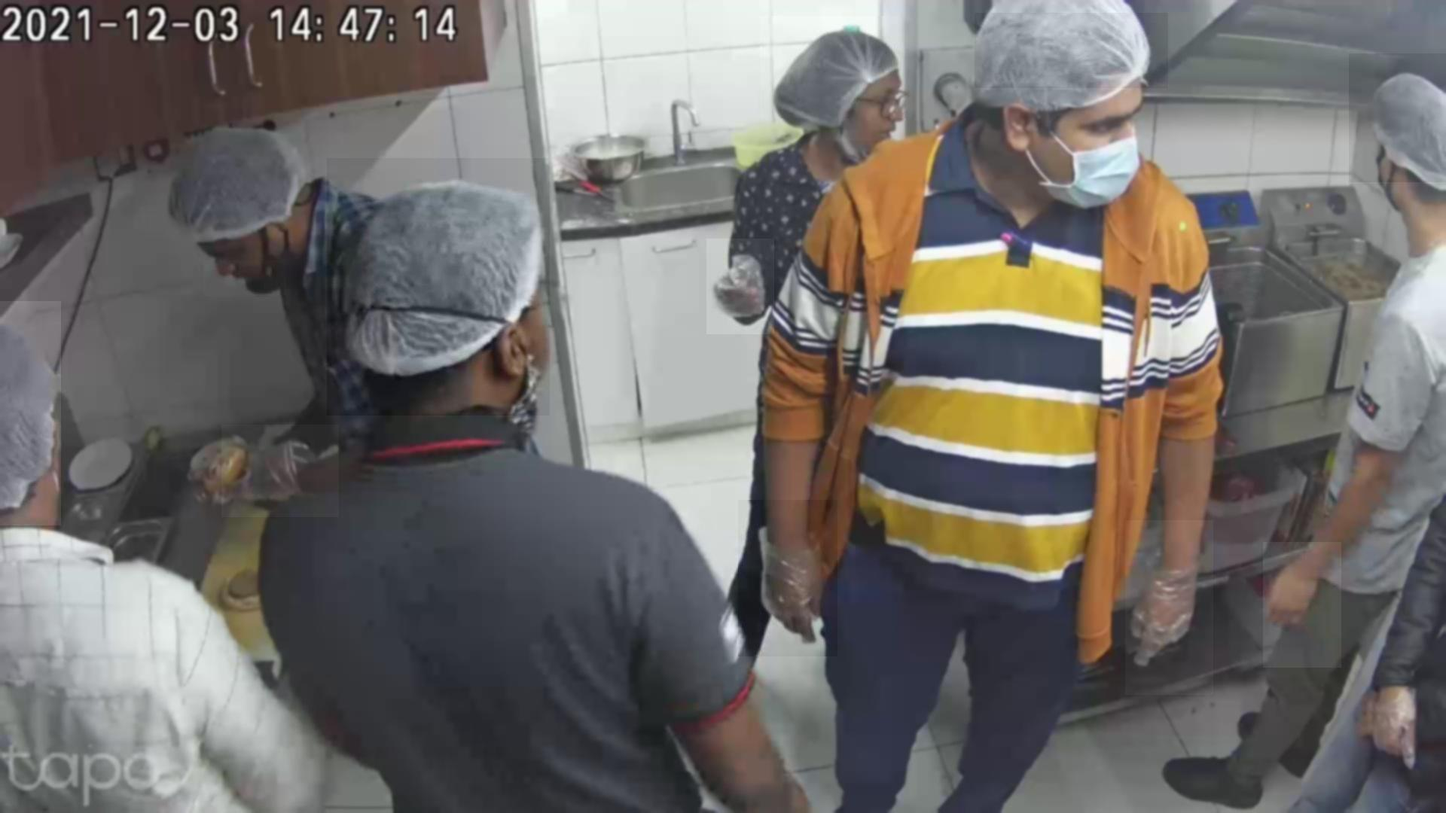apron: (739, 500, 838, 656), (1125, 520, 1213, 695), (222, 425, 339, 518), (1356, 661, 1432, 780), (706, 239, 774, 335)
gloves: (327, 159, 550, 416), (146, 116, 321, 260), (761, 16, 914, 118), (975, 14, 1168, 89), (0, 302, 61, 526), (1349, 53, 1446, 182)
mask: (1058, 92, 1142, 212)
no_apron: (1264, 543, 1342, 668)
no_hairnet: (825, 67, 909, 141), (204, 231, 287, 296)
